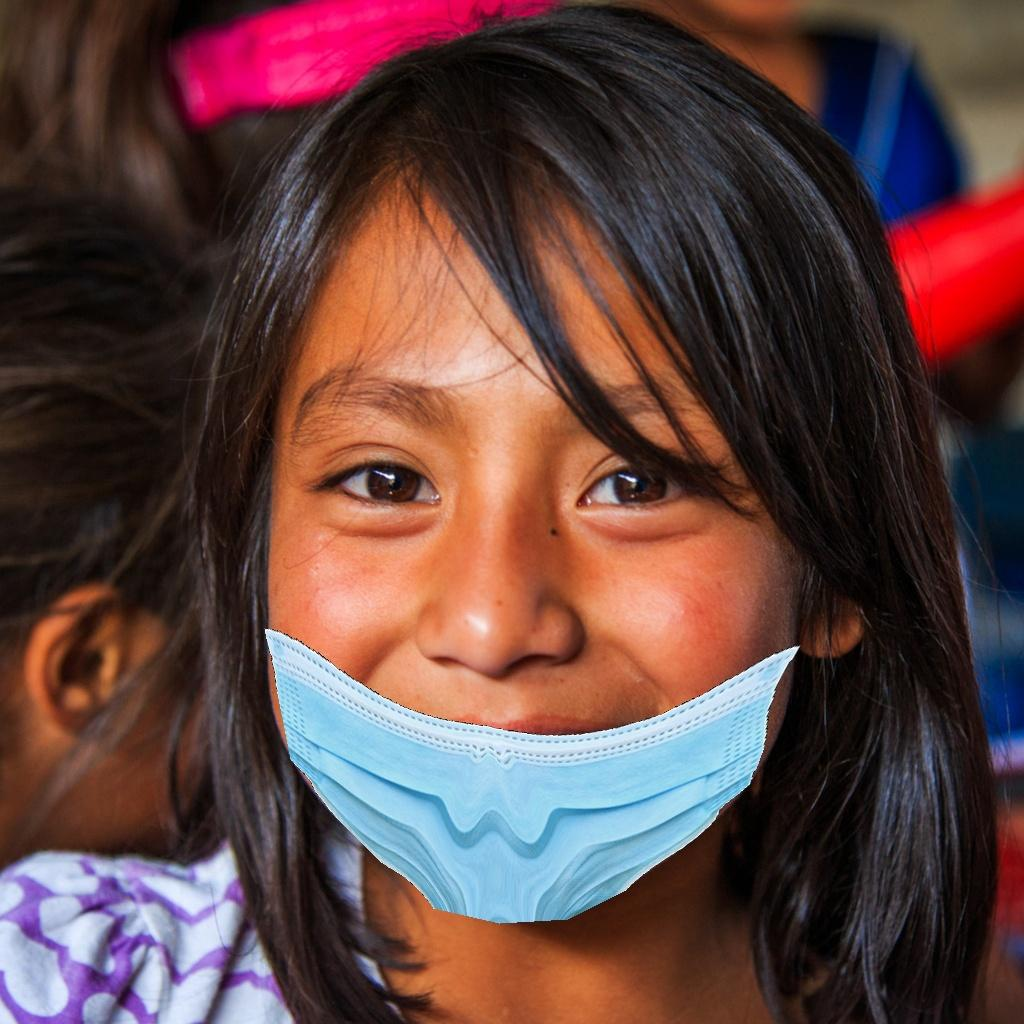Máscara Incorreta: (247, 310, 806, 901)
